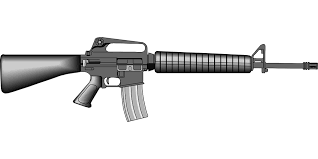gun: (1, 34, 316, 122)
